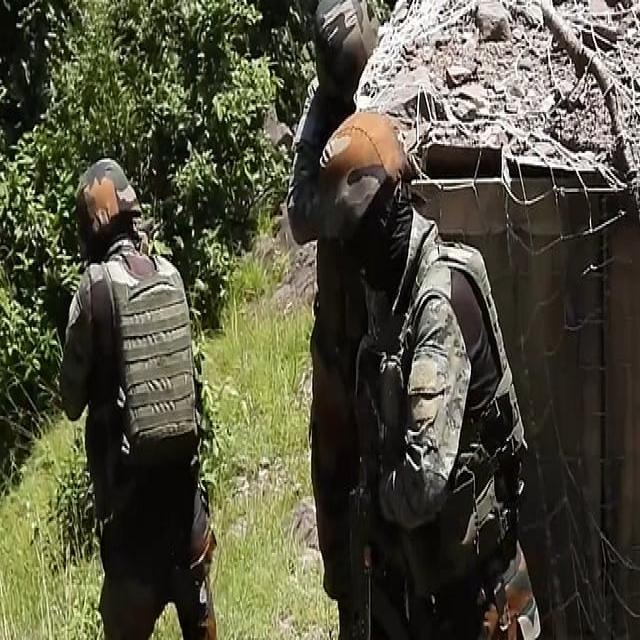Forest: (0, 0, 639, 640)
Militant: (302, 97, 567, 640), (51, 133, 249, 640)
